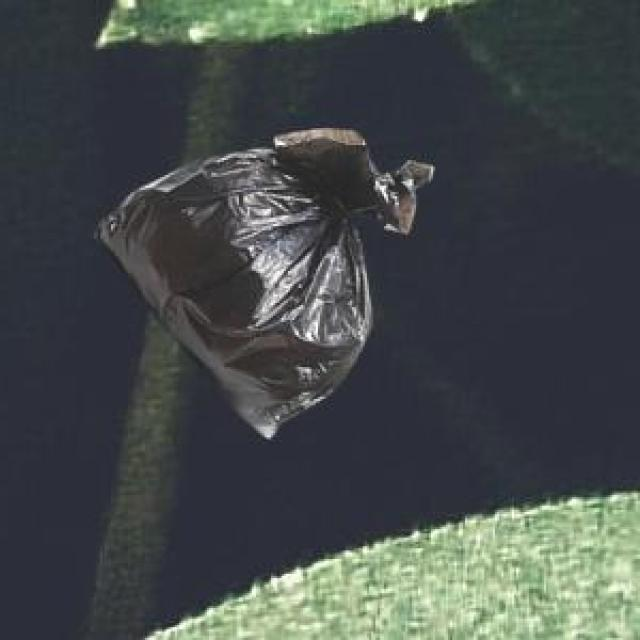Trashbag: (88, 121, 440, 449)
